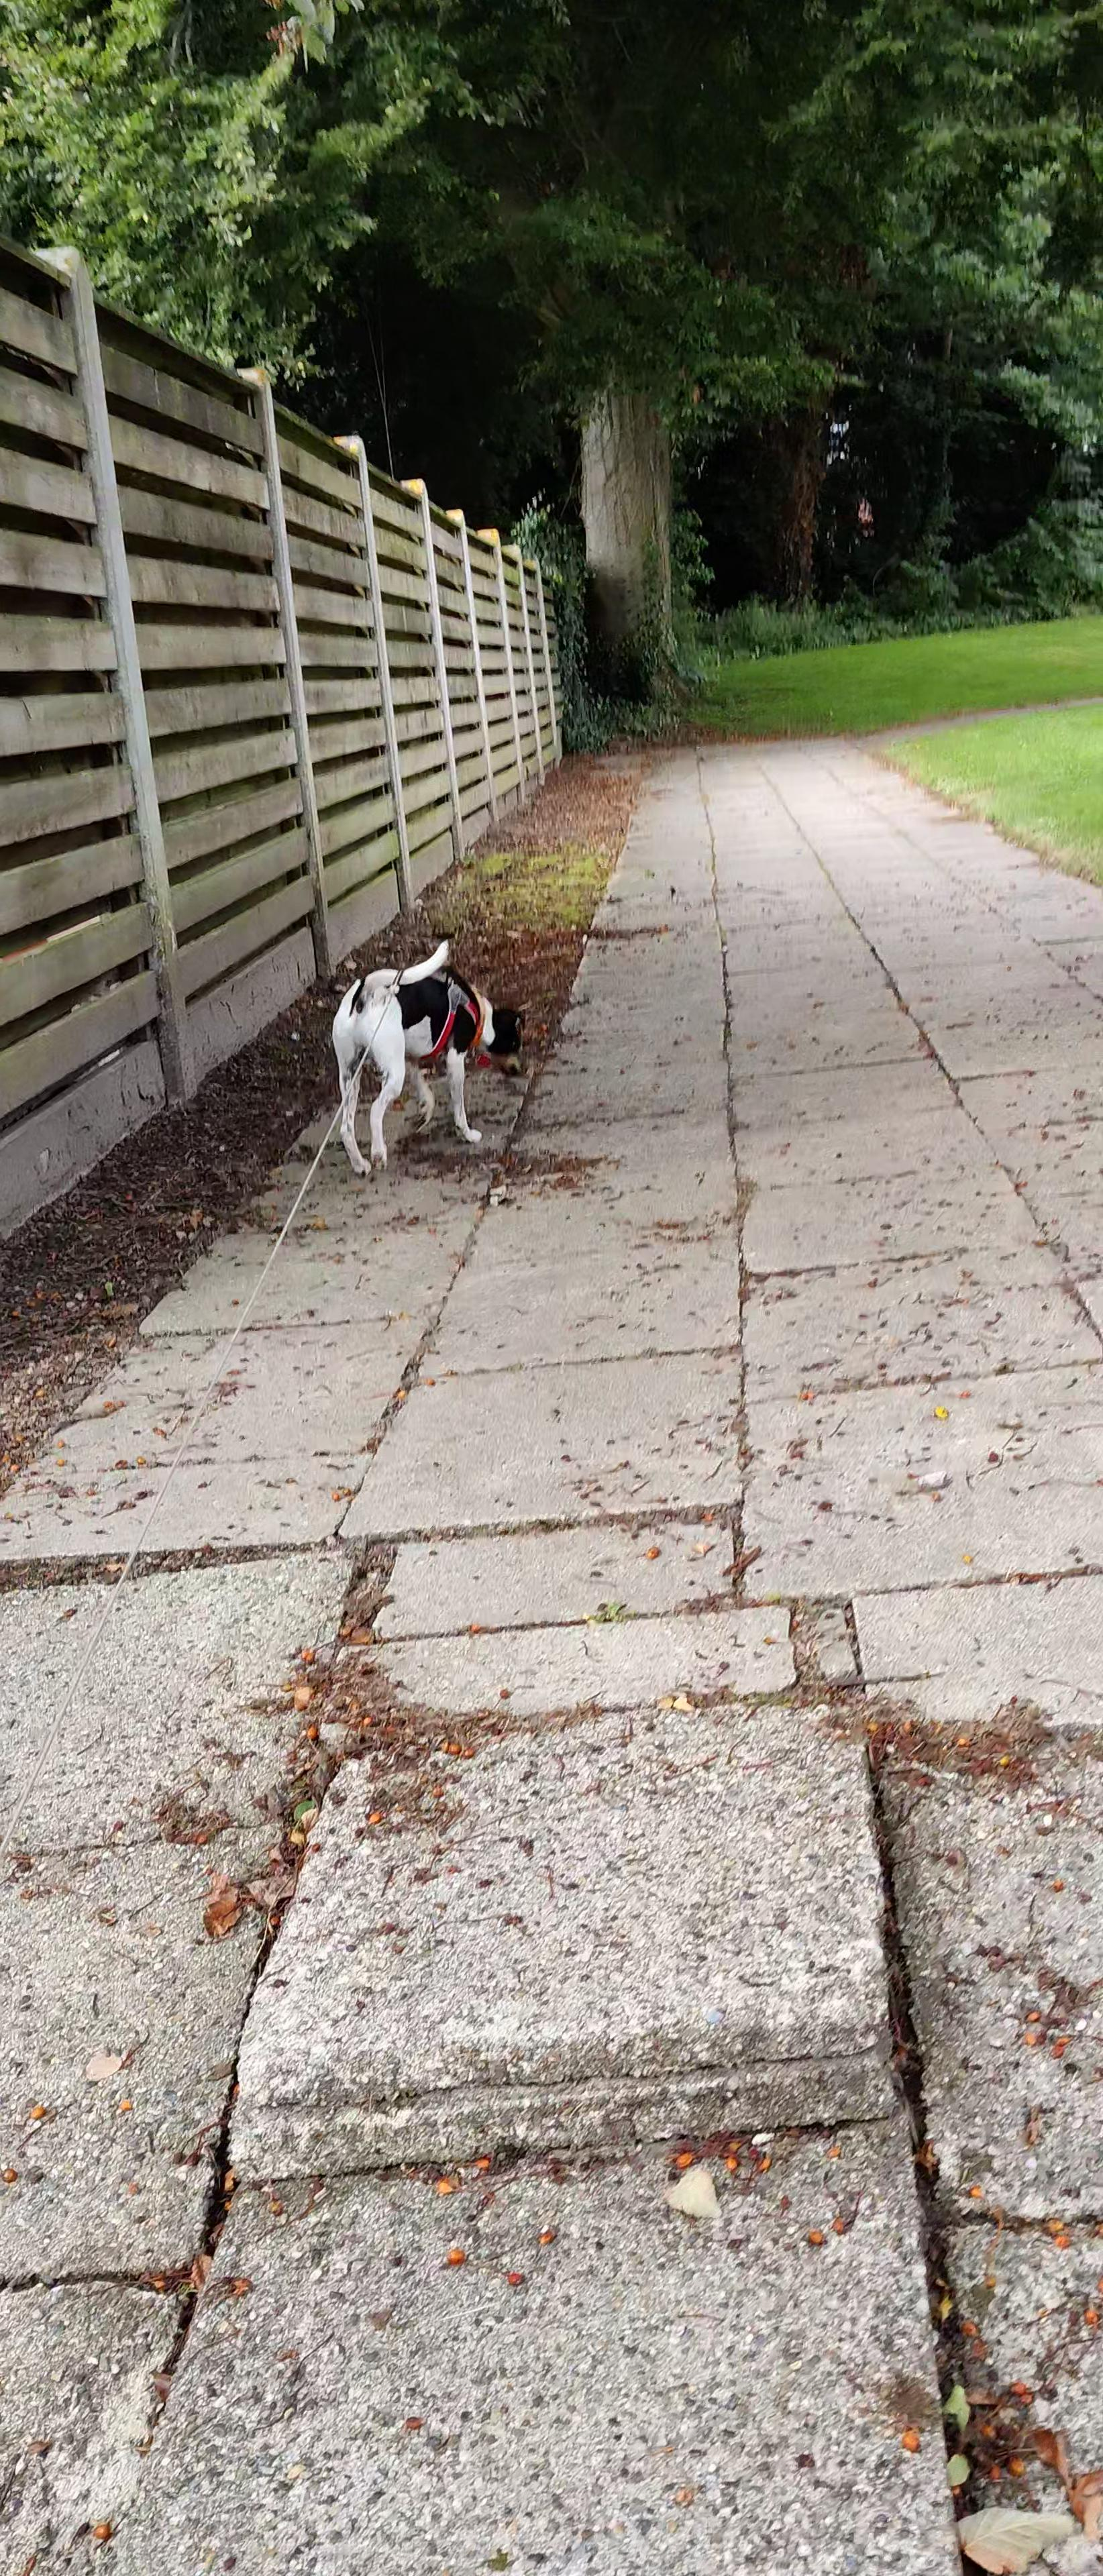Dog: (322, 933, 533, 1178)
